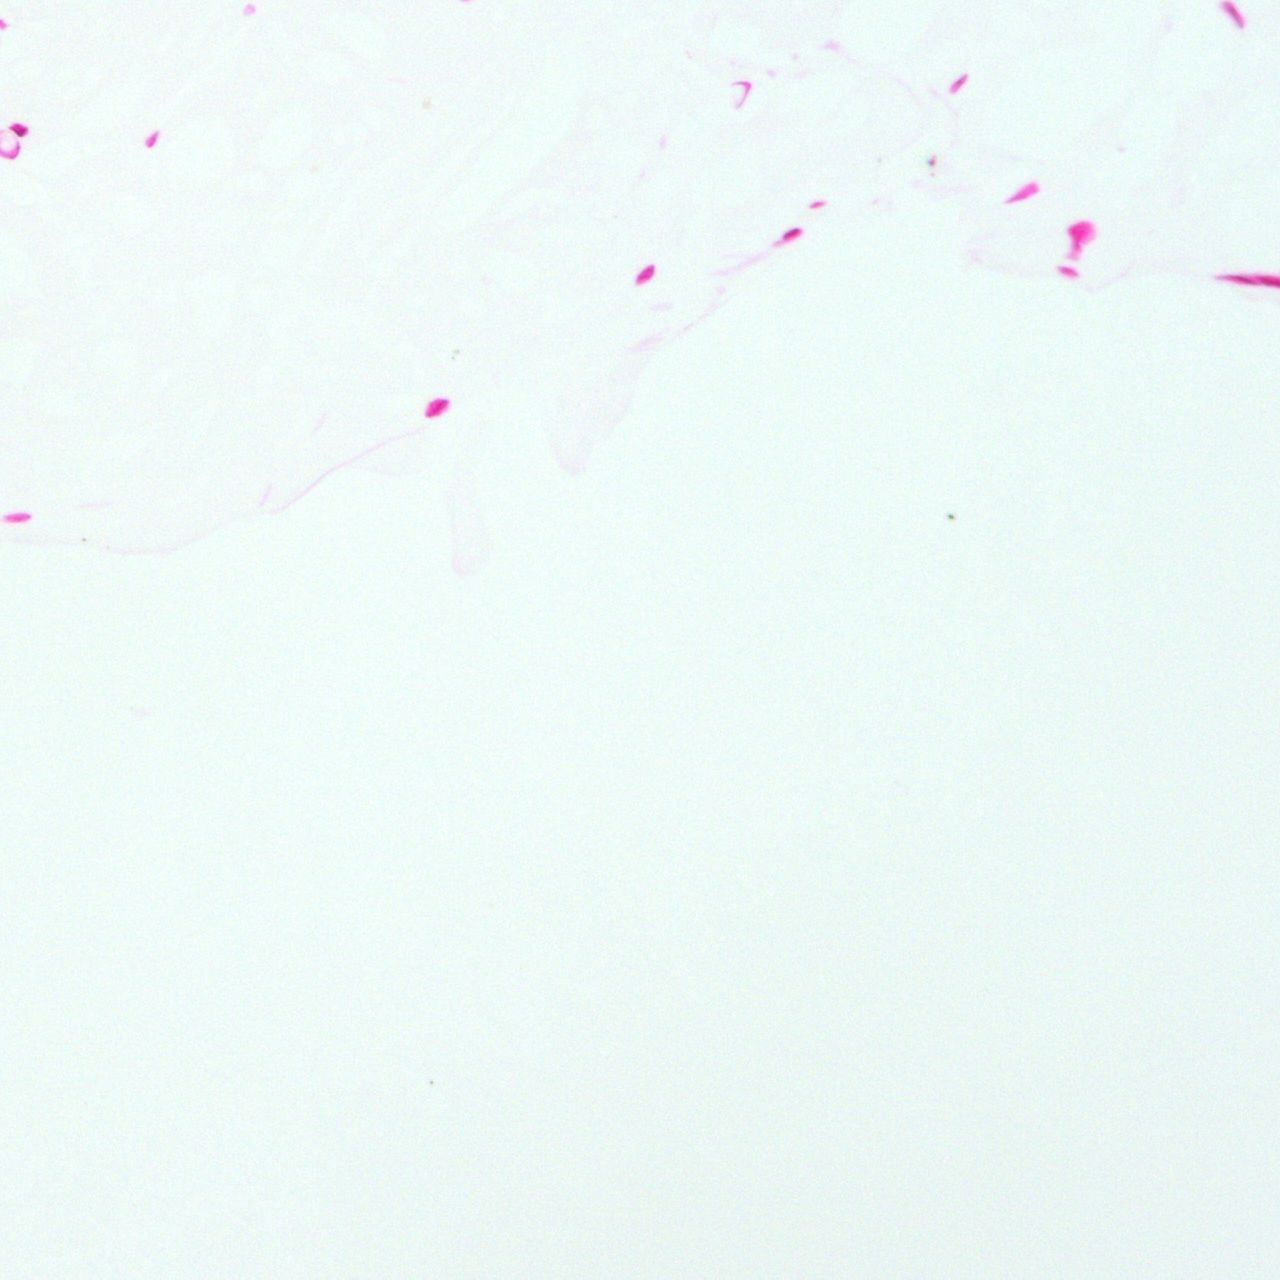nucleus-FG: (632, 261, 660, 288), (778, 223, 804, 246), (7, 118, 30, 139)
